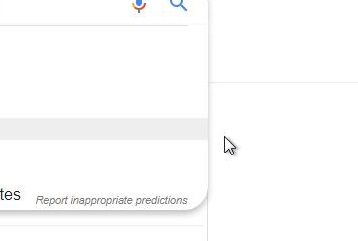cursor: (223, 135, 236, 155)
